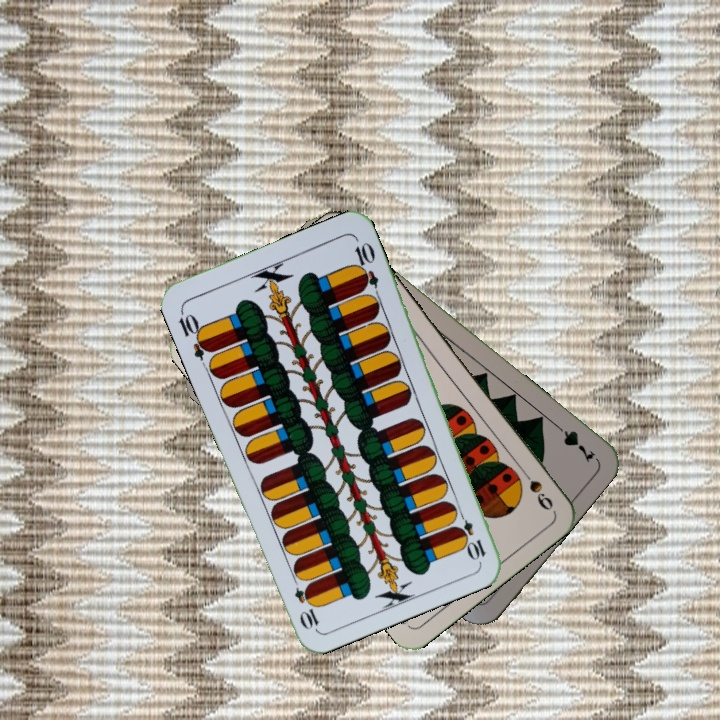E10: (174, 306, 215, 362), (452, 505, 489, 563)
G7: (548, 418, 599, 465)
S9: (515, 462, 556, 514)
